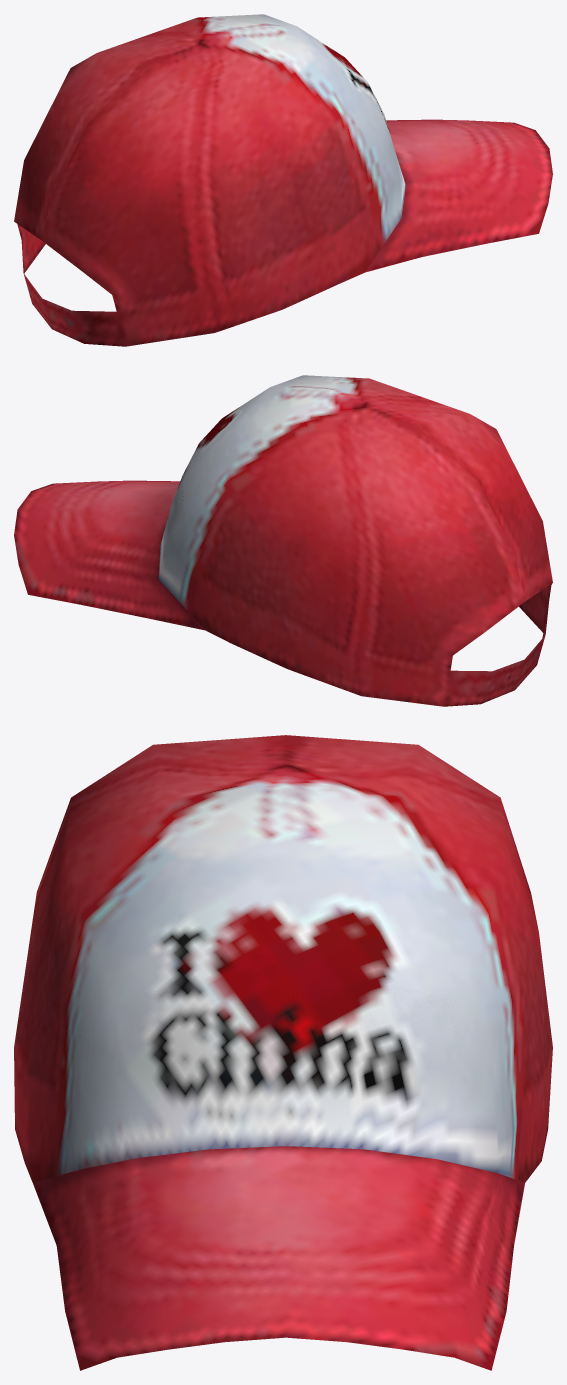
File: hat_0450025.FBX
3 views of the same model, one above another, from view 1: azimuth 30°, elevation 25°; view 2: azimuth 150°, elevation 25°; view 3: azimuth 270°, elevation 25° (orthographic). The views are drawn at different scales.
Parts seen in each view (by area): view 1: hat_0450025; view 2: hat_0450025; view 3: hat_0450025.
Boxes of the visible parts, left/top/right/bottom form: hat_0450025: left=14, top=14, right=552, bottom=346; hat_0450025: left=14, top=375, right=552, bottom=706; hat_0450025: left=14, top=735, right=552, bottom=1370.
Size of the model in its own units: 35.82 by 17.56 by 19.53.
